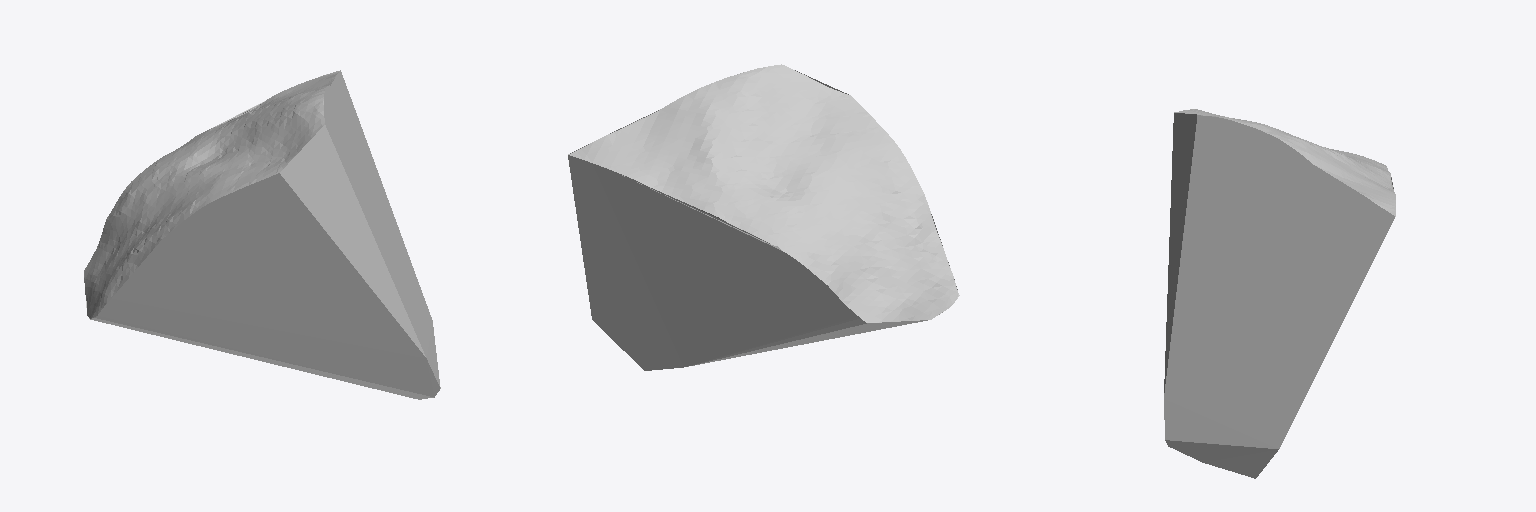
Rendered from low_cell_086.obj.
The picture shows the model from 3 angles: view 1: azimuth 30°, elevation 25°; view 2: azimuth 150°, elevation 25°; view 3: azimuth 270°, elevation 25°; orthographic projection.
Parts seen in each view (by area): view 1: low_cell.086_low_cell.085; view 2: low_cell.086_low_cell.085; view 3: low_cell.086_low_cell.085.
Boxes of the visible parts, <box> form: low_cell.086_low_cell.085: <box>84,70,440,399</box>; low_cell.086_low_cell.085: <box>568,64,959,370</box>; low_cell.086_low_cell.085: <box>1164,109,1395,478</box>.
Bounding box in the file's own units: 0.842 × 0.7165 × 0.4806.